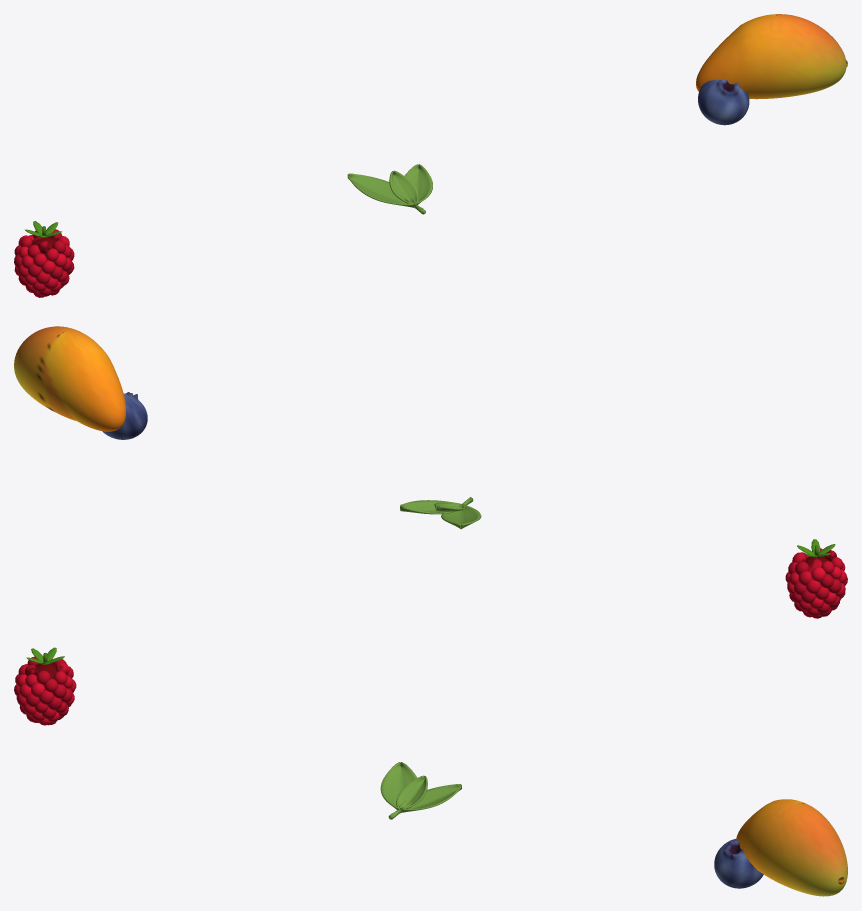
File: fruits.glb
3 renders of one model, top to bottom at view 1: azimuth 30°, elevation 25°; view 2: azimuth 150°, elevation 25°; view 3: azimuth 330°, elevation 25°, orthographic. The views are drawn at different scales.
Parts seen in each view (by area): view 1: FRUIT_Mango, FRUIT_Raspberry, FRUIT_Matcha, FRUIT_Blueberry; view 2: FRUIT_Mango, FRUIT_Raspberry, FRUIT_Matcha, FRUIT_Blueberry; view 3: FRUIT_Mango, FRUIT_Raspberry, FRUIT_Matcha, FRUIT_Blueberry.
Boxes of the visible parts, left/top/right/bottom form: FRUIT_Mango: left=696, top=14, right=847, bottom=99; FRUIT_Raspberry: left=14, top=221, right=74, bottom=297; FRUIT_Matcha: left=347, top=164, right=432, bottom=214; FRUIT_Blueberry: left=698, top=79, right=749, bottom=125; FRUIT_Mango: left=14, top=326, right=125, bottom=431; FRUIT_Raspberry: left=785, top=539, right=847, bottom=618; FRUIT_Matcha: left=400, top=497, right=481, bottom=529; FRUIT_Blueberry: left=102, top=392, right=147, bottom=439; FRUIT_Mango: left=736, top=799, right=847, bottom=896; FRUIT_Raspberry: left=14, top=647, right=76, bottom=725; FRUIT_Matcha: left=380, top=762, right=461, bottom=819; FRUIT_Blueberry: left=714, top=838, right=763, bottom=888.
Bounding box in the file's own units: 0.9149 × 0.1068 × 0.0851.
